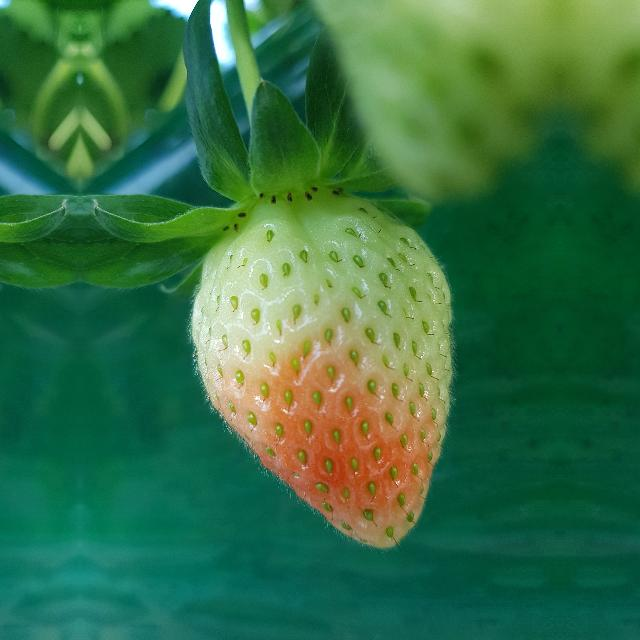Health_50: (187, 192, 455, 550)
